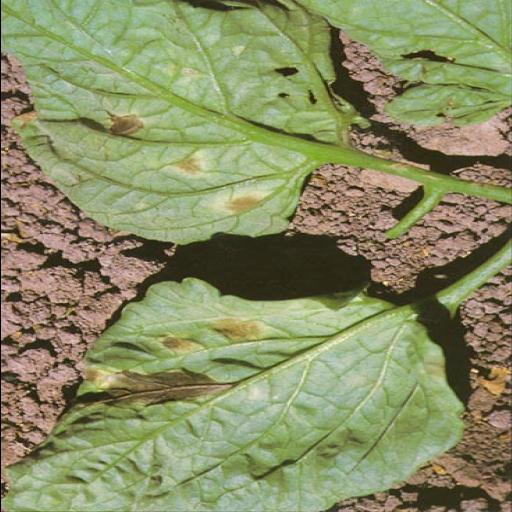Leaf Mold: (29, 275, 461, 512), (20, 1, 342, 243)
